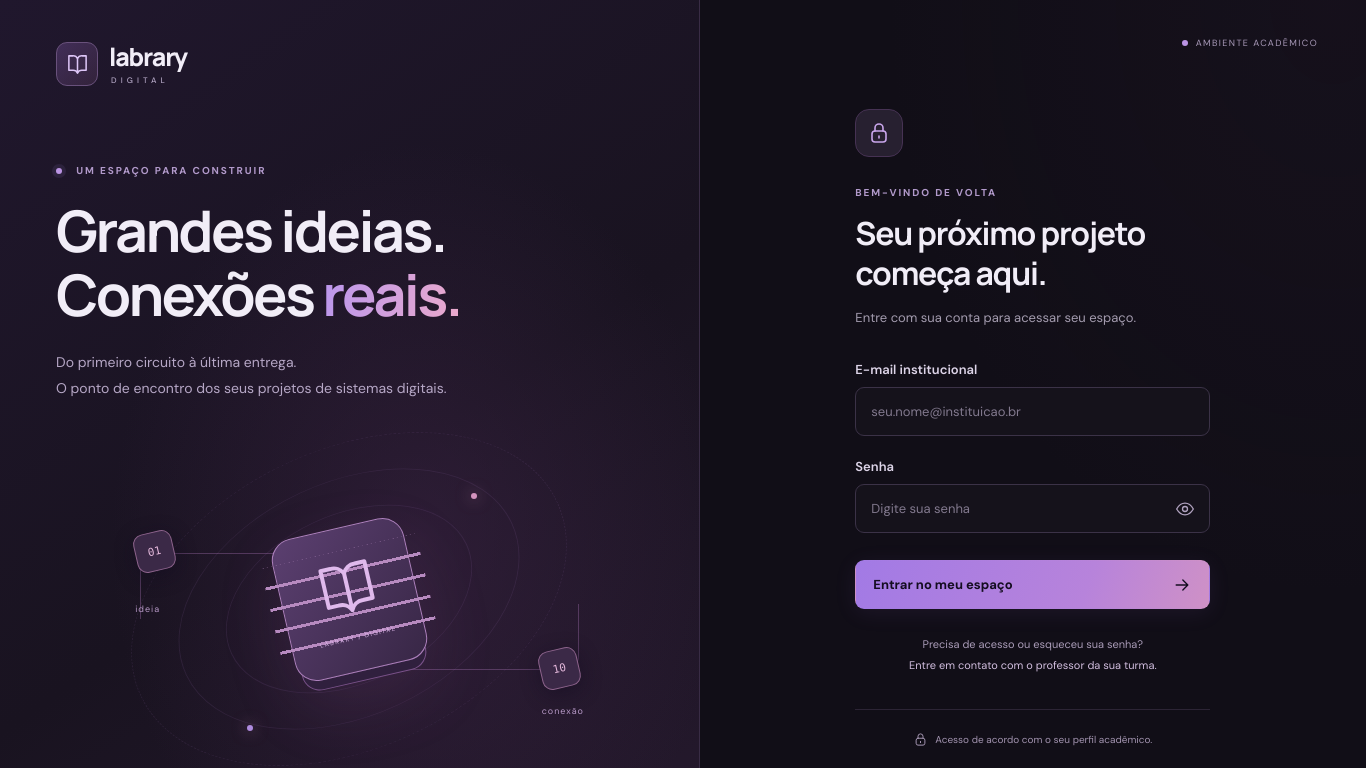
it: HU01: interface › preserva o destino privado no login e mostra materiais existentes
Step 1. Type "aluno@labrary.local" into the field labelled "E-mail institucional" → (1033, 412), box left=855, top=387, right=1210, bottom=436
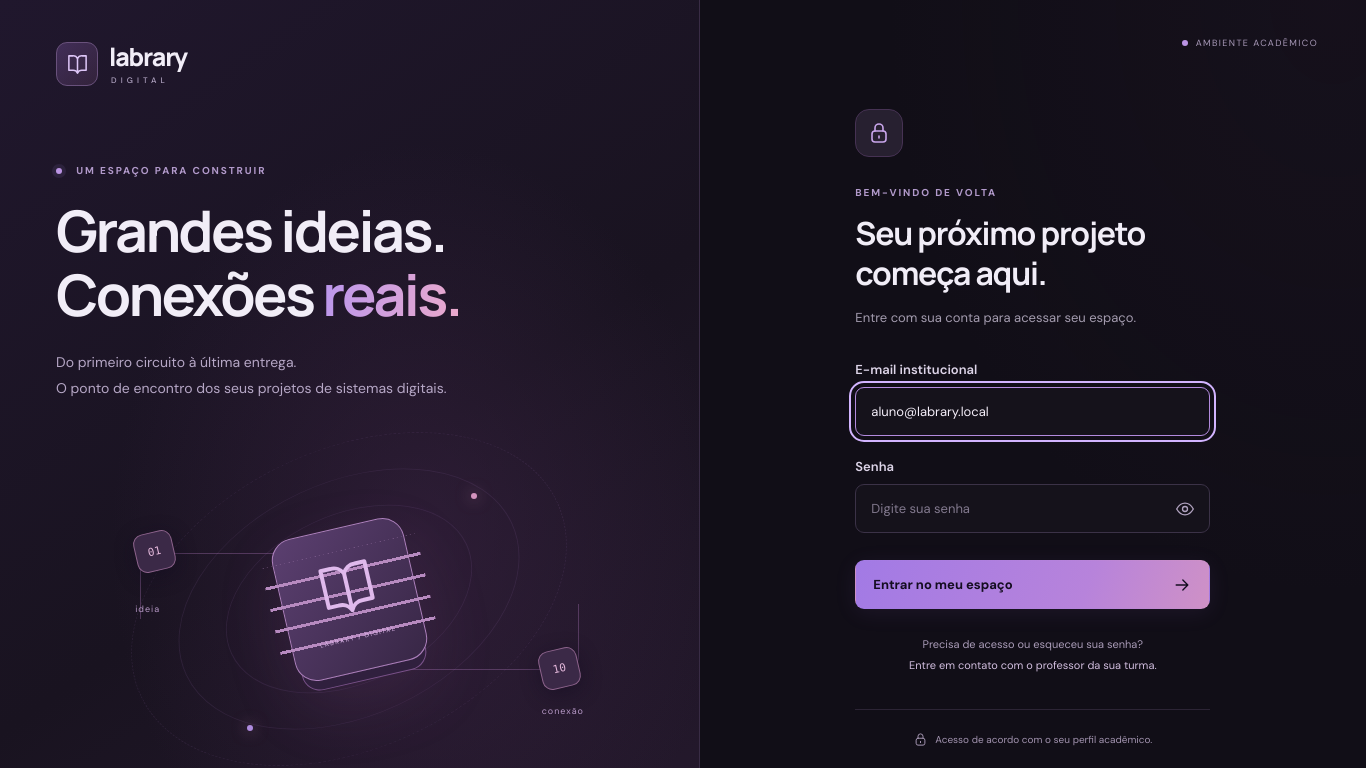
Step 2. Type "Senha123!" into the password field labelled "Senha" → (1033, 509), box left=855, top=484, right=1210, bottom=533
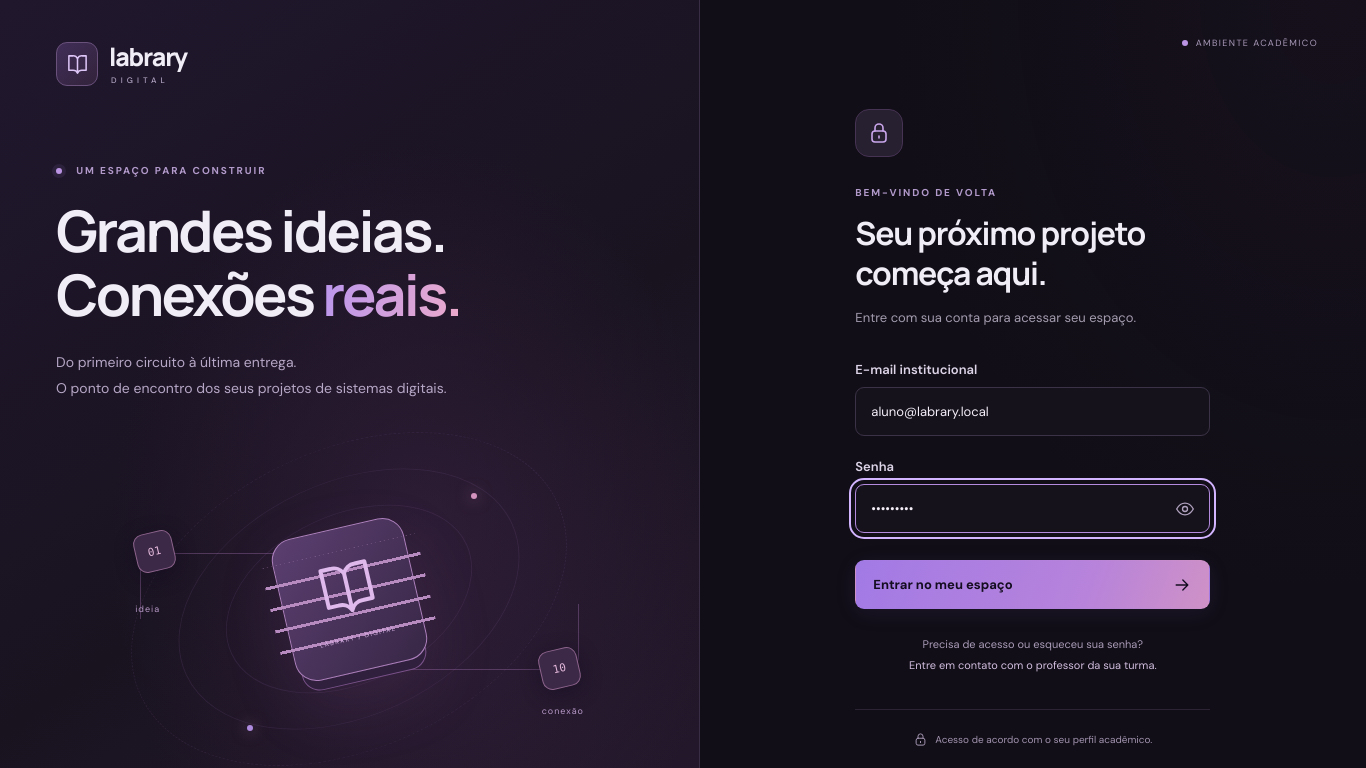
Step 3. Click the button "Entrar no meu espaço" → (943, 585), box left=855, top=560, right=1210, bottom=609
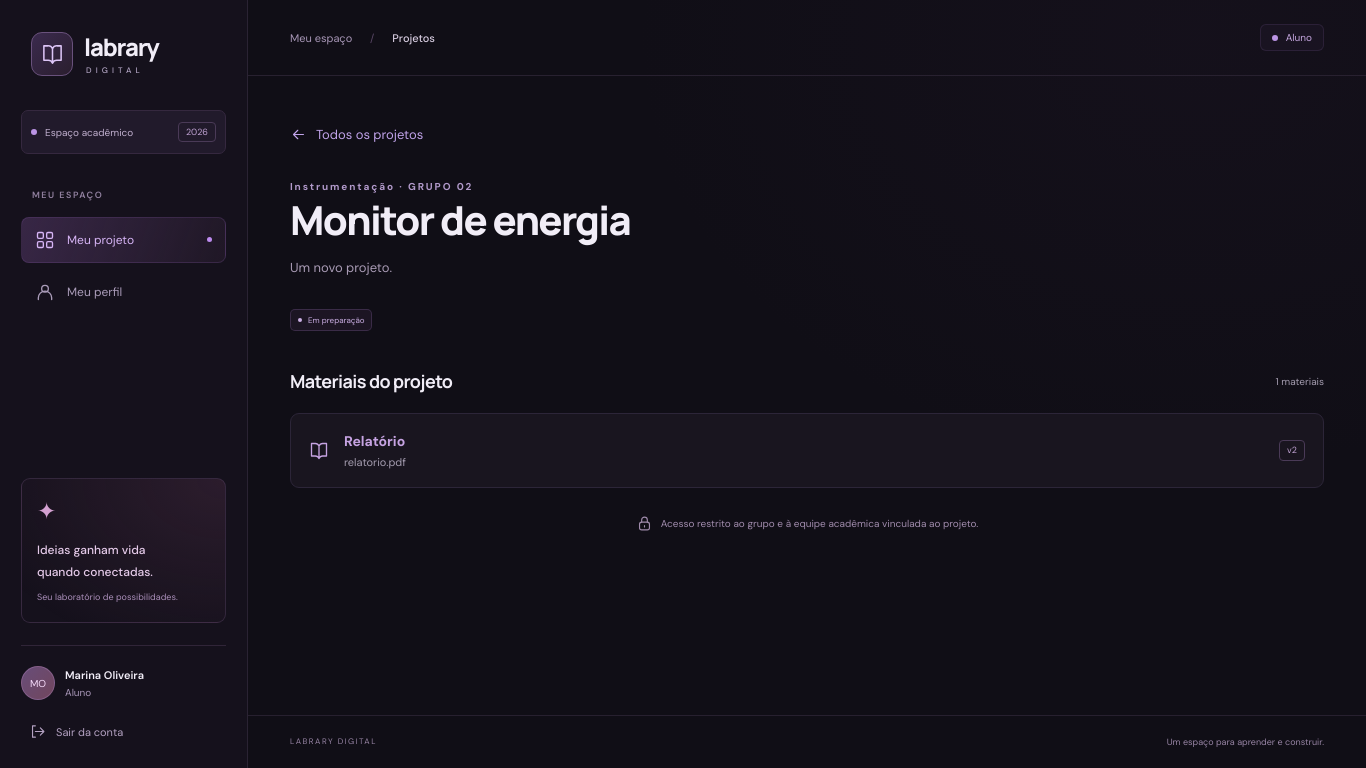
Result: the heading "Monitor de energia" is shown at left=290, top=192, right=630, bottom=247
Result: the text "relatorio.pdf" is shown at left=344, top=455, right=406, bottom=469
Result: the text "v2" is shown at left=1279, top=440, right=1305, bottom=461
